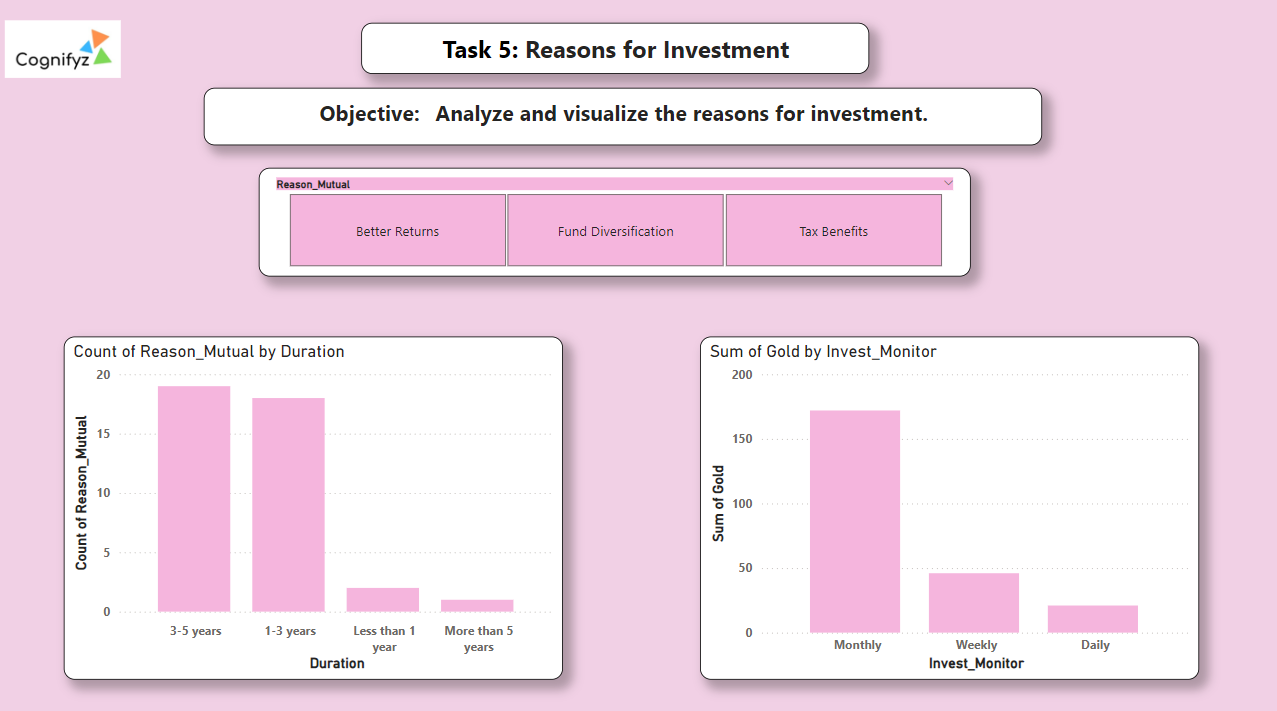

This screenshot's page, from the dashboard's own definition file:
{"tool":"powerbi","page":{"name":" Task 5","canvas":[1280,720],"ordinal":4},"visuals":[{"type":"textbox","box":[360.9,24.3,507.7,51.6],"z":0},{"type":"textbox","box":[204.3,88.5,838.4,57.4],"z":1000},{"type":"slicer","fields":{"Values":["Data_set 2.Reason_Mutual"]},"box":[258.7,168.3,712,108.9],"z":2000},{"type":"columnChart","fields":{"Category":["Data_set 2.Duration"],"Y":["CountNonNull(Data_set 2.Reason_Mutual)"]},"box":[63.2,337.5,499,343.3],"z":4000},{"type":"columnChart","fields":{"Category":["Data_set 2.Invest_Monitor"],"Y":["Sum(Data_set 2.Gold)"]},"box":[700.3,337.5,499,343.3],"z":5000}]}

Visuals, with their boxes in screenshot pixels (x1, y1, x2, y2), scaled from the page's 1280x720 canvas onto the 1277x711 screenshot:
textbox: 360,24,867,75
textbox: 204,87,1040,144
slicer - Data_set 2.Reason_Mutual: 258,166,968,274
columnChart - Data_set 2.Duration x CountNonNull(Data_set 2.Reason_Mutual): 63,333,561,672
columnChart - Data_set 2.Invest_Monitor x Sum(Data_set 2.Gold): 699,333,1196,672
